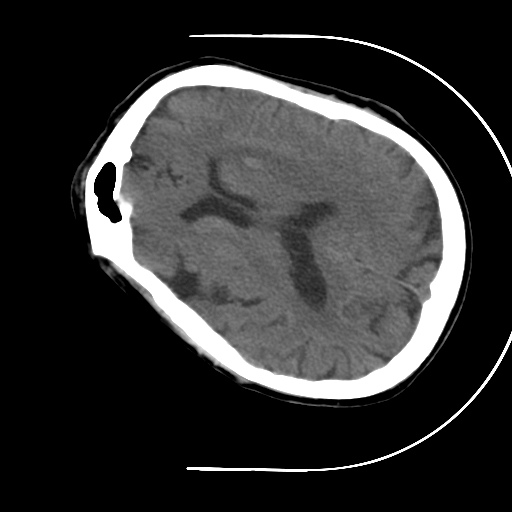a: (220, 134, 292, 189)
